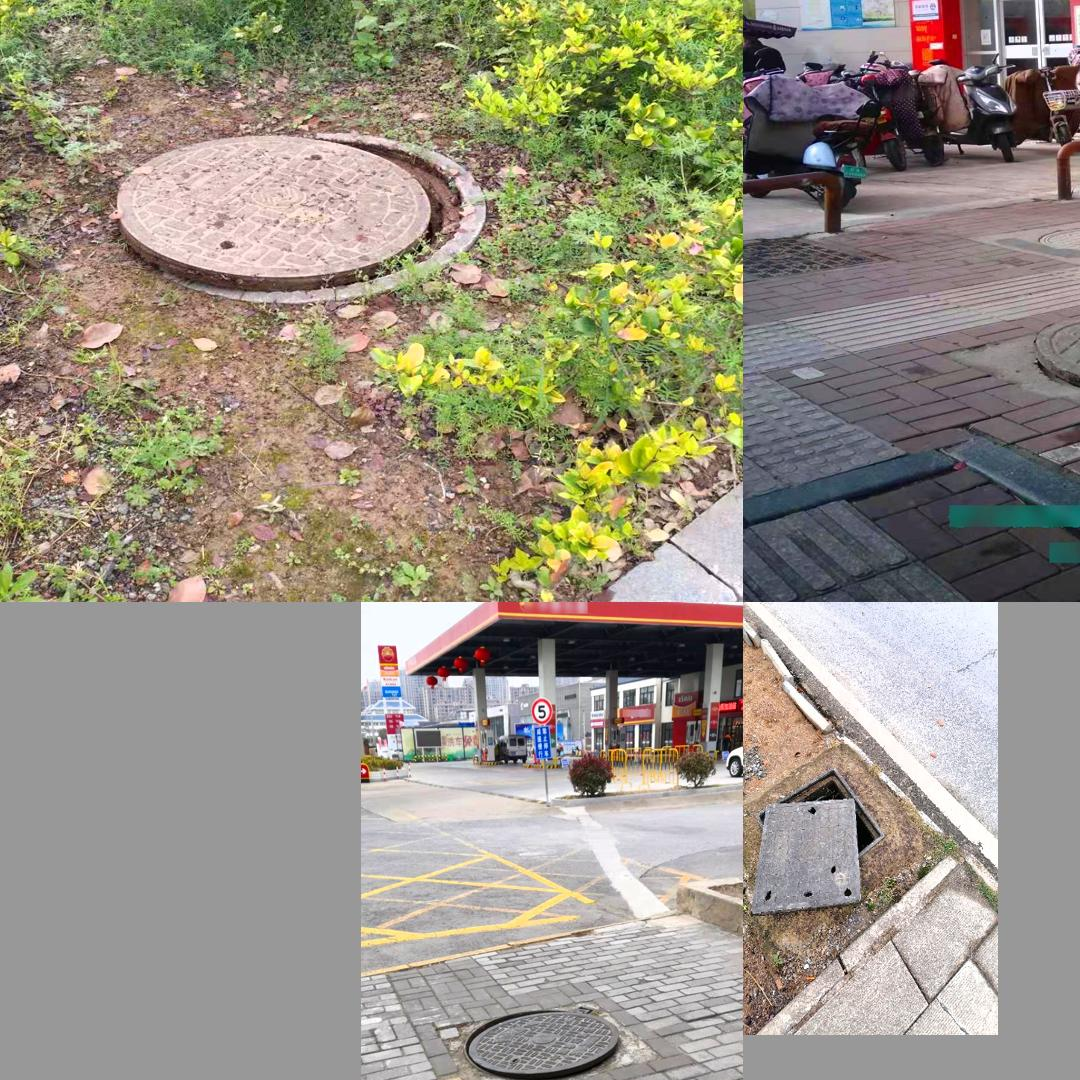good: (1037, 225, 1080, 258)
uncovered: (118, 132, 484, 301), (751, 767, 885, 916), (467, 1008, 621, 1079), (1024, 308, 1080, 396)
